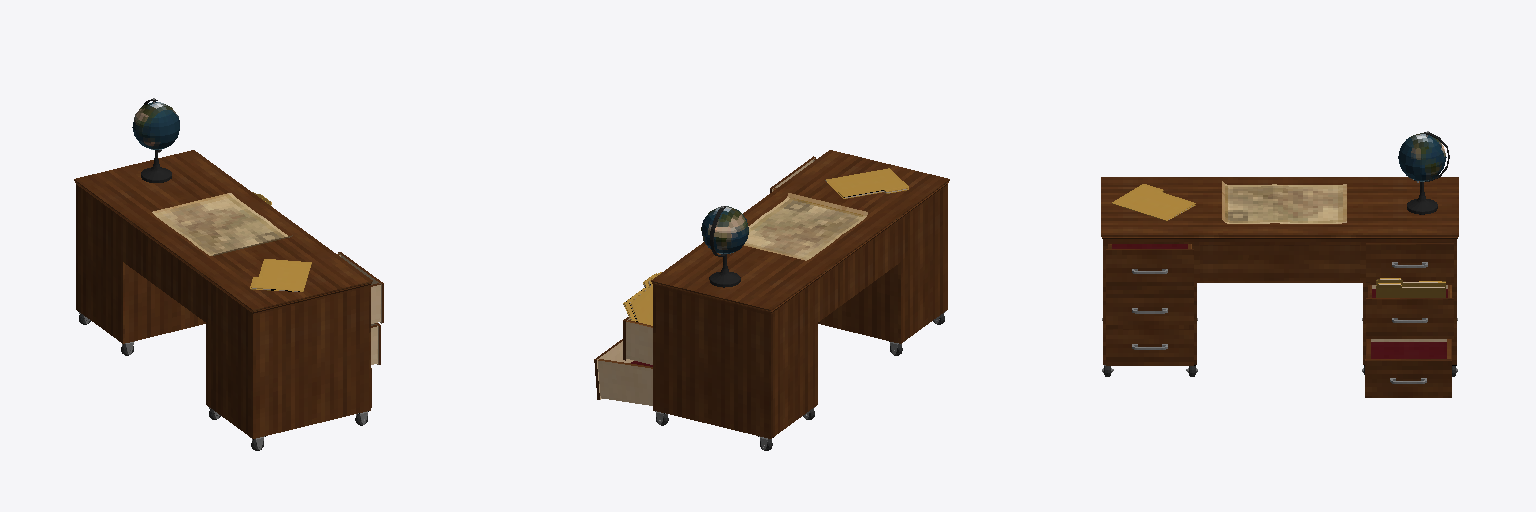
3 renders of one model, left to right at view 1: azimuth 30°, elevation 25°; view 2: azimuth 150°, elevation 25°; view 3: azimuth 270°, elevation 25°, orthographic.
Size of the model in its own units: 3.16 by 3.61 by 5.28.
Materials: 1 (1 with a texture image).